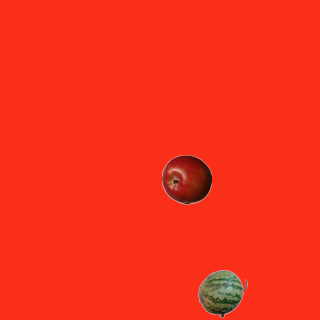Apple Braeburn: (161, 154, 211, 204)
Watermelon: (197, 268, 247, 318)
